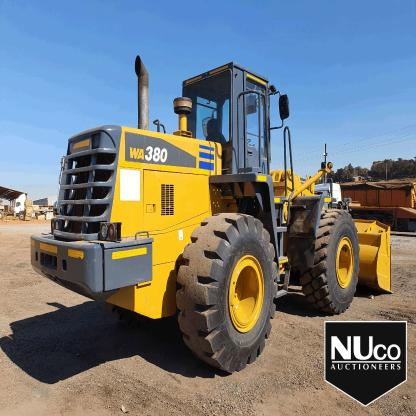bull_dozer/loader/grader: (28, 43, 406, 372)
